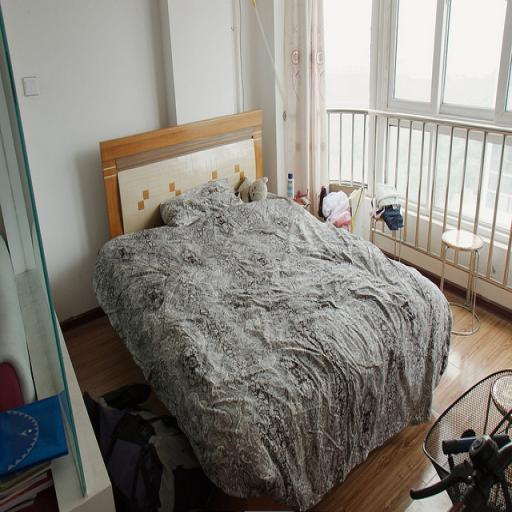bed: (86, 94, 450, 500)
